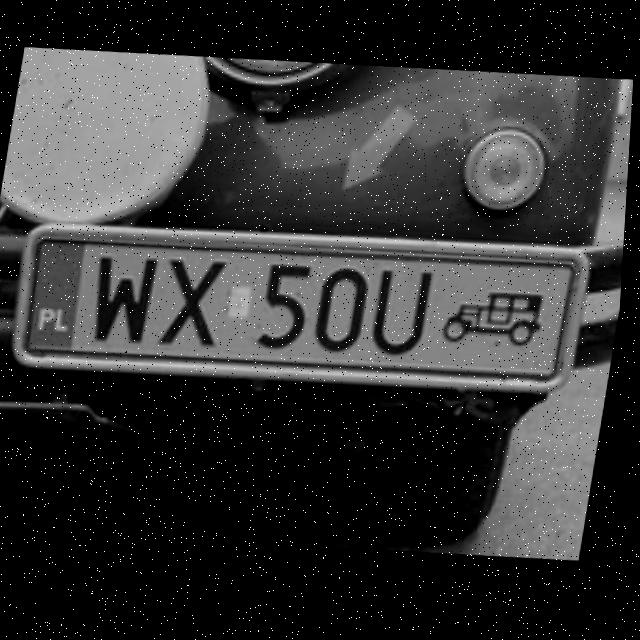license-plates: (23, 236, 580, 381)
